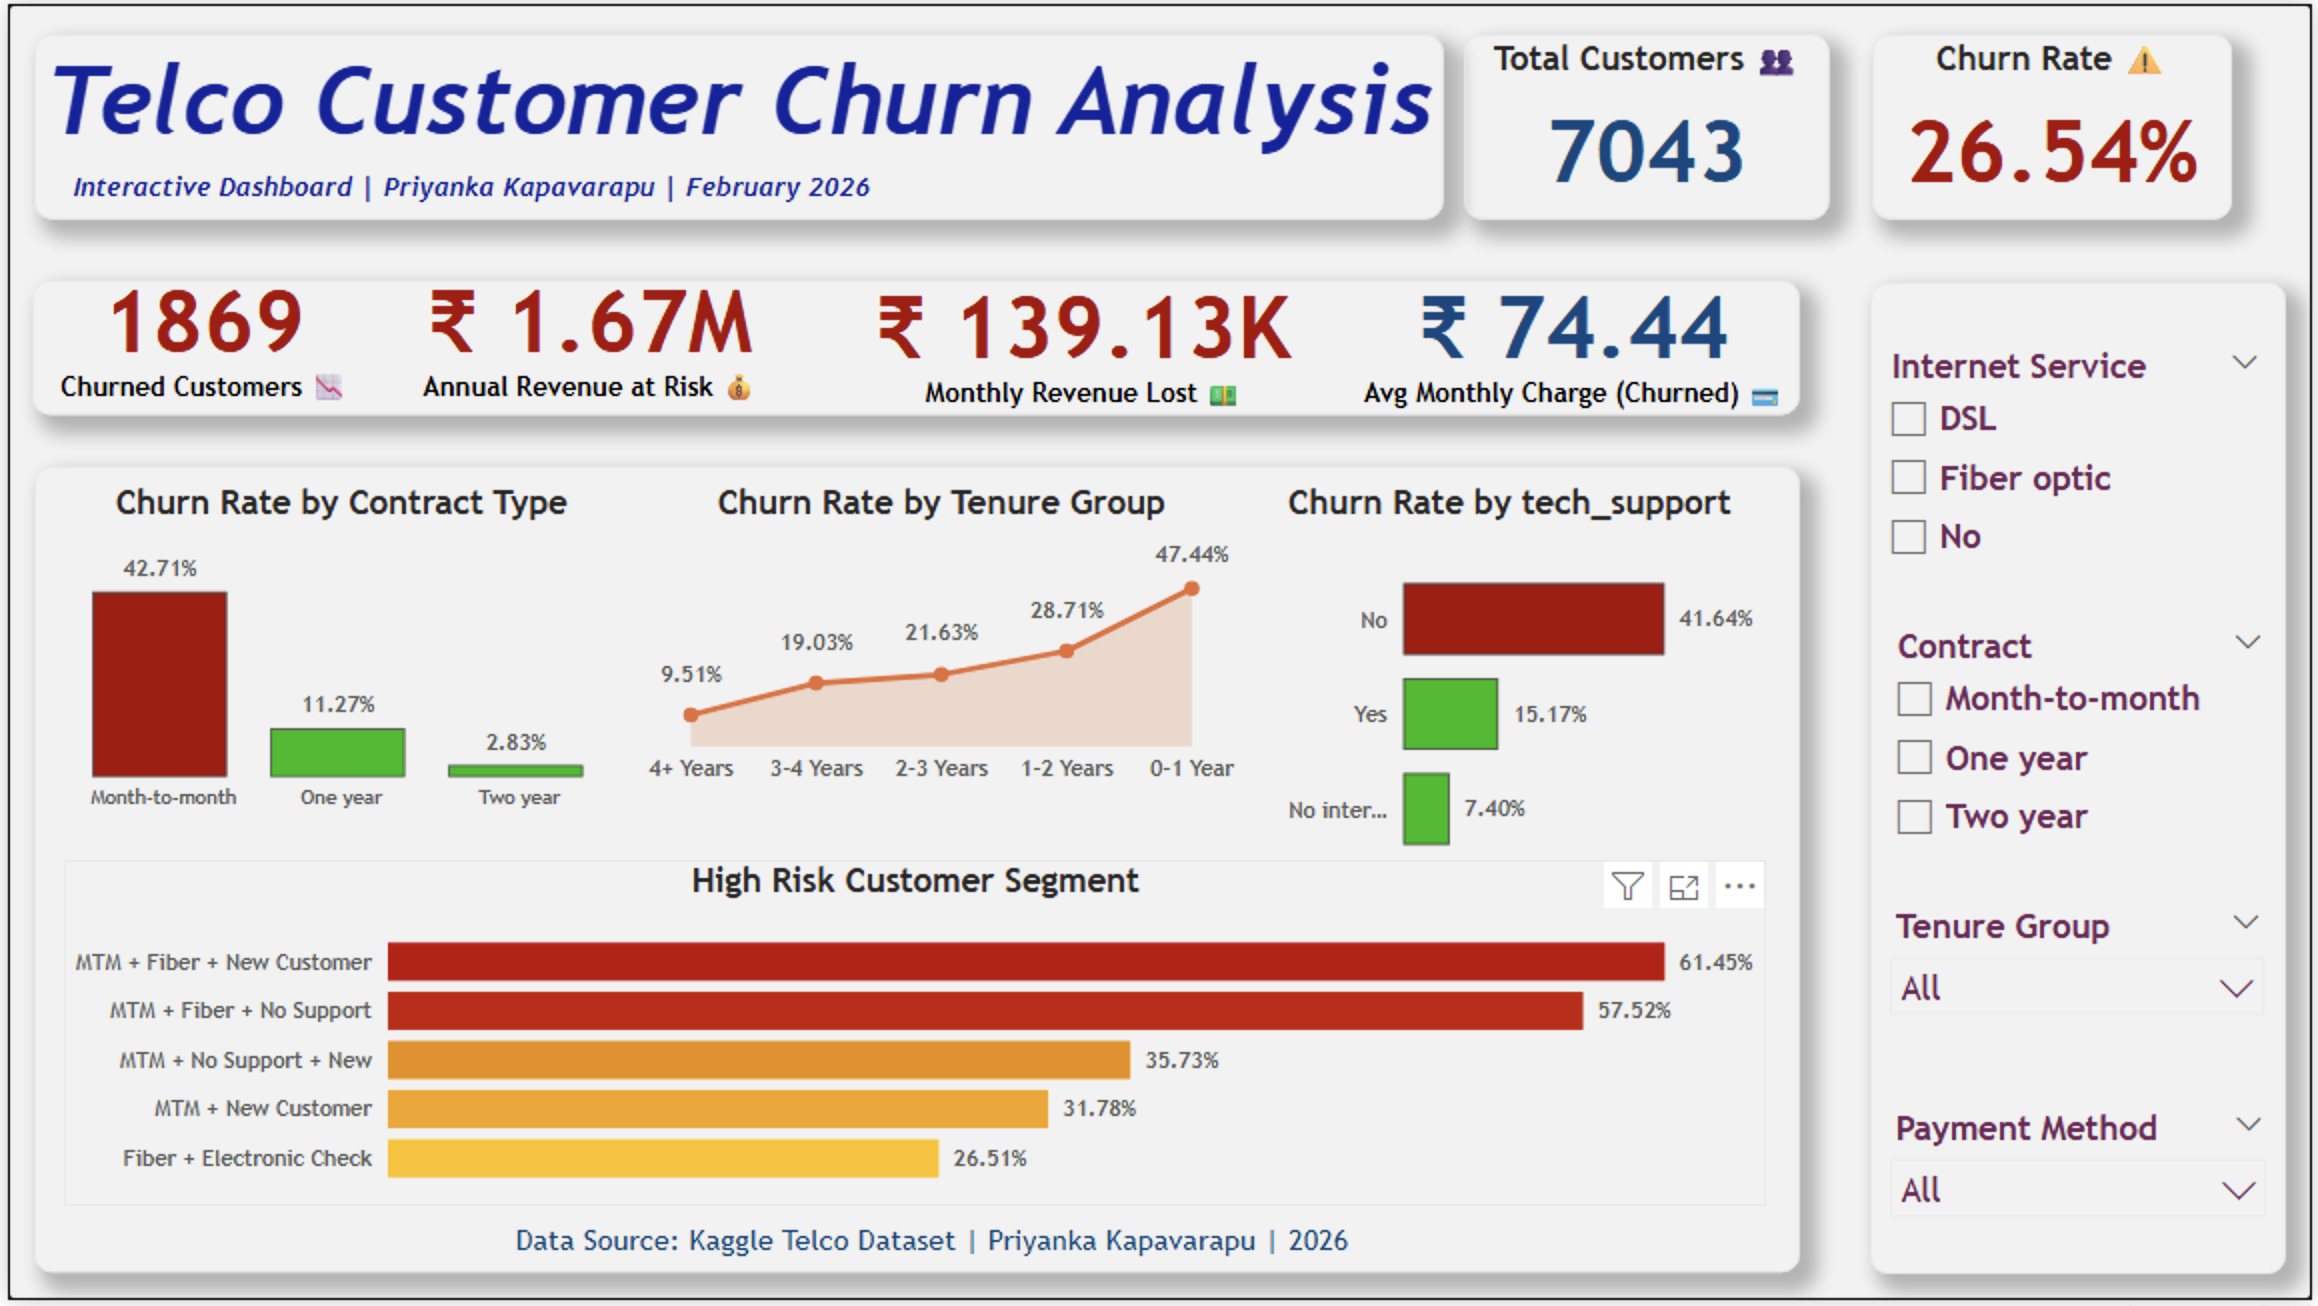

This screenshot's page, from the dashboard's own definition file:
{"tool":"powerbi","page":{"name":"Dashboard","canvas":[1280,720],"ordinal":0},"visuals":[{"type":"shape","box":[13.8,16.9,783.1,115.4],"z":0},{"type":"shape","box":[1035.4,16.9,200,115.4],"z":1000},{"type":"shape","box":[1012.3,153.8,252.3,550.8],"z":2000},{"type":"shape","box":[809.2,16.9,203.1,115.4],"z":3000},{"type":"card","title":"Total Customers 👥","fields":{"Values":["Customers_for_PowerBI.Total Customers"]},"box":[809.2,16.9,203.1,115.4],"z":4000},{"type":"shape","box":[13.8,153.8,981.5,75.4],"z":5000},{"type":"shape","box":[13.8,246.2,981.5,458.5],"z":6000},{"type":"card","title":"Churned Customers ","fields":{"Values":["Customers_for_PowerBI.Churned Customers"]},"box":[13.8,116.9,190.8,129.2],"z":7000},{"type":"card","title":"Churn Rate ⚠️","fields":{"Values":["Customers_for_PowerBI.Churn Rate"]},"box":[1036.9,16.9,198.5,115.4],"z":8000},{"type":"card","fields":{"Values":["Customers_for_PowerBI.Annual Revenue at Risk"]},"box":[190.8,116.9,264.6,129.2],"z":9000},{"type":"card","fields":{"Values":["Customers_for_PowerBI.Monthly Revenue Lost"]},"box":[466.2,120,261.5,129.2],"z":10000},{"type":"card","fields":{"Values":["Customers_for_PowerBI.Avg Charge (Churned)"]},"box":[744.6,120,250.8,129.2],"z":11000},{"type":"clusteredColumnChart","title":"Churn Rate by Contract Type","fields":{"Category":["Customers_for_PowerBI.contract"],"Y":["Customers_for_PowerBI.Churn Rate"]},"box":[1.5,247.7,366.2,207.7],"z":12000},{"type":"lineChart","title":"Churn Rate by Tenure Group","fields":{"Category":["Customers_for_PowerBI.tenure_group"],"Y":["Customers_for_PowerBI.Churn Rate"]},"box":[344.6,247.7,346.2,192.3],"z":13000},{"type":"textbox","box":[15.4,16.9,809.2,87.7],"z":15000},{"type":"textbox","box":[30.8,87.7,581.5,32.3],"z":16000},{"type":"slicer","fields":{"Values":["Customers_for_PowerBI.contract"]},"box":[1036.9,340,227.7,135.4],"z":17000},{"type":"slicer","fields":{"Values":["Customers_for_PowerBI.internet_service"]},"box":[1033.8,184.6,229.2,144.6],"z":18000},{"type":"slicer","fields":{"Values":["Customers_for_PowerBI.tenure_group"]},"box":[1035.4,495.4,227.7,90.8],"z":19000},{"type":"slicer","fields":{"Values":["Customers_for_PowerBI.payment_method"]},"box":[1035.4,607.7,229.2,96.9],"z":20000},{"type":"textbox","box":[30.8,667.7,964.6,36.9],"z":21000},{"type":"clusteredBarChart","fields":{"Category":["Customers_for_PowerBI.tech_support"],"Y":["Customers_for_PowerBI.Churn Rate"]},"box":[690.8,256.9,286.2,238.5],"z":22000},{"type":"clusteredBarChart","title":"High Risk Customer Segment","fields":{"Category":["Customers_for_PowerBI.Customer Segment"],"Y":["Customers_for_PowerBI.Churn Rate"]},"box":[31,475,946,193],"z":22001}]}

Visuals, with their boxes in screenshot pixels (x1, y1, x2, y2), scaled from the page's 1280x720 canvas onto the 2318x1306 screenshot:
shape: x1=25 y1=31 x2=1443 y2=240
shape: x1=1875 y1=31 x2=2237 y2=240
shape: x1=1833 y1=279 x2=2290 y2=1278
shape: x1=1465 y1=31 x2=1833 y2=240
"Total Customers 👥" card: x1=1465 y1=31 x2=1833 y2=240
shape: x1=25 y1=279 x2=1802 y2=416
shape: x1=25 y1=447 x2=1802 y2=1278
"Churned Customers " card: x1=25 y1=212 x2=371 y2=446
"Churn Rate ⚠️" card: x1=1878 y1=31 x2=2237 y2=240
card - Customers_for_PowerBI.Annual Revenue at Risk: x1=346 y1=212 x2=825 y2=446
card - Customers_for_PowerBI.Monthly Revenue Lost: x1=844 y1=218 x2=1318 y2=452
card - Customers_for_PowerBI.Avg Charge (Churned): x1=1348 y1=218 x2=1803 y2=452
"Churn Rate by Contract Type" clusteredColumnChart: x1=3 y1=449 x2=666 y2=826
"Churn Rate by Tenure Group" lineChart: x1=624 y1=449 x2=1251 y2=798
textbox: x1=28 y1=31 x2=1493 y2=190
textbox: x1=56 y1=159 x2=1109 y2=218
slicer - Customers_for_PowerBI.contract: x1=1878 y1=617 x2=2290 y2=862
slicer - Customers_for_PowerBI.internet_service: x1=1872 y1=335 x2=2287 y2=597
slicer - Customers_for_PowerBI.tenure_group: x1=1875 y1=899 x2=2287 y2=1063
slicer - Customers_for_PowerBI.payment_method: x1=1875 y1=1102 x2=2290 y2=1278
textbox: x1=56 y1=1211 x2=1803 y2=1278
clusteredBarChart - Customers_for_PowerBI.tech_support x Customers_for_PowerBI.Churn Rate: x1=1251 y1=466 x2=1769 y2=899
"High Risk Customer Segment" clusteredBarChart: x1=56 y1=862 x2=1769 y2=1212
